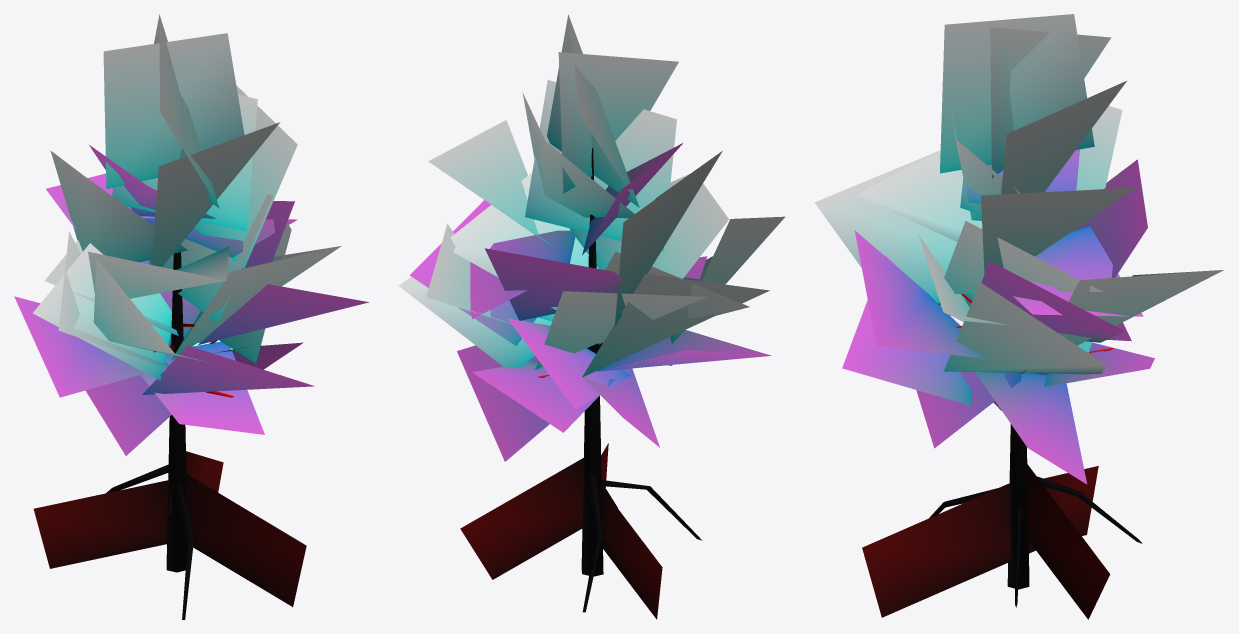
Rendered from swamp_mangrove_b_128.fbx.
The picture shows the model from 3 angles, left to right: view 1: azimuth 30°, elevation 25°; view 2: azimuth 150°, elevation 25°; view 3: azimuth 270°, elevation 25°; orthographic projection. The views are drawn at different scales.
Visible parts, largest first — view 1: leavesmb128, treemb128; view 2: leavesmb128, treemb128; view 3: leavesmb128, treemb128.
Part boxes in pixels (box(x1,y1,x2,y2)): leavesmb128: box(14, 14, 368, 606); treemb128: box(106, 244, 234, 619); leavesmb128: box(398, 14, 785, 619); treemb128: box(538, 148, 701, 612); leavesmb128: box(814, 14, 1223, 619); treemb128: box(929, 294, 1142, 607).
Size of what is drawn, in the model's own units: 4.79 by 8.18 by 5.22.
